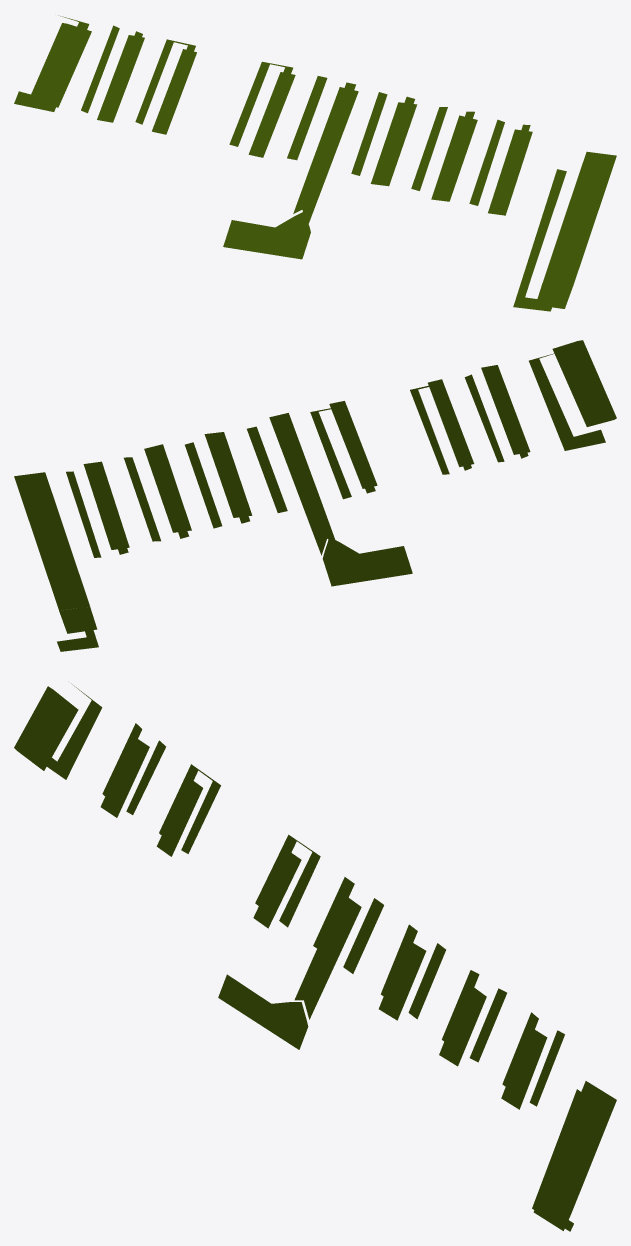
File: Roof_Hini_0.0_Slope_2.0.obj
3 views of the same model, one above another, from view 1: azimuth 30°, elevation 25°; view 2: azimuth 150°, elevation 25°; view 3: azimuth 330°, elevation 25° (orthographic). The views are drawn at different scales.
Parts seen in each view (by area): view 1: 1, 5, 9, 4, 3, 2, 6, 8, 7; view 2: 5, 1, 9, 3, 4, 2, 6, 8, 7; view 3: 5, 1, 9, 3, 4, 2, 6, 8, 7.
Part boxes in pixels (box(x1,y1,x2,y2)): 1: box(513, 151, 616, 311); 5: box(223, 76, 358, 259); 9: box(14, 15, 91, 111); 4: box(411, 107, 477, 201); 3: box(351, 92, 417, 186); 2: box(469, 119, 532, 215); 6: box(229, 61, 295, 157); 8: box(81, 25, 144, 122); 7: box(135, 39, 196, 134); 5: box(247, 413, 412, 586); 1: box(14, 472, 98, 651); 9: box(529, 340, 616, 450); 3: box(185, 432, 252, 528); 4: box(124, 444, 191, 541); 2: box(66, 461, 129, 557); 6: box(310, 401, 377, 499); 8: box(464, 365, 530, 462); 7: box(410, 379, 474, 474); 5: box(218, 877, 383, 1049); 1: box(532, 1081, 616, 1231); 9: box(14, 683, 102, 779); 3: box(379, 924, 445, 1020); 4: box(439, 970, 506, 1066); 2: box(501, 1012, 564, 1109); 6: box(253, 834, 320, 928); 8: box(100, 723, 166, 817); 7: box(156, 764, 220, 856).
Size of the model in its own units: 136 by 92 by 7.15.
